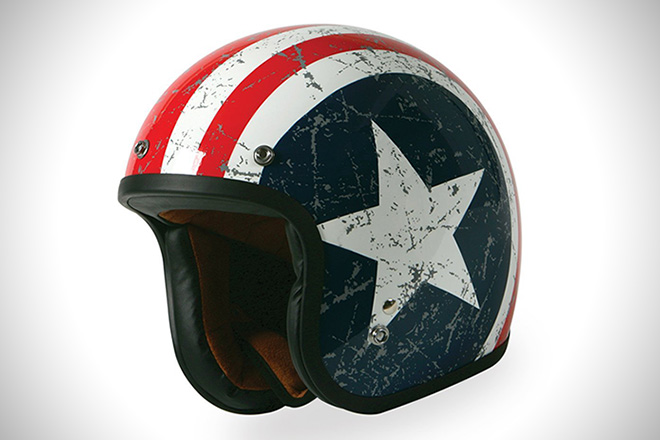with_helmet: (118, 19, 526, 408)
